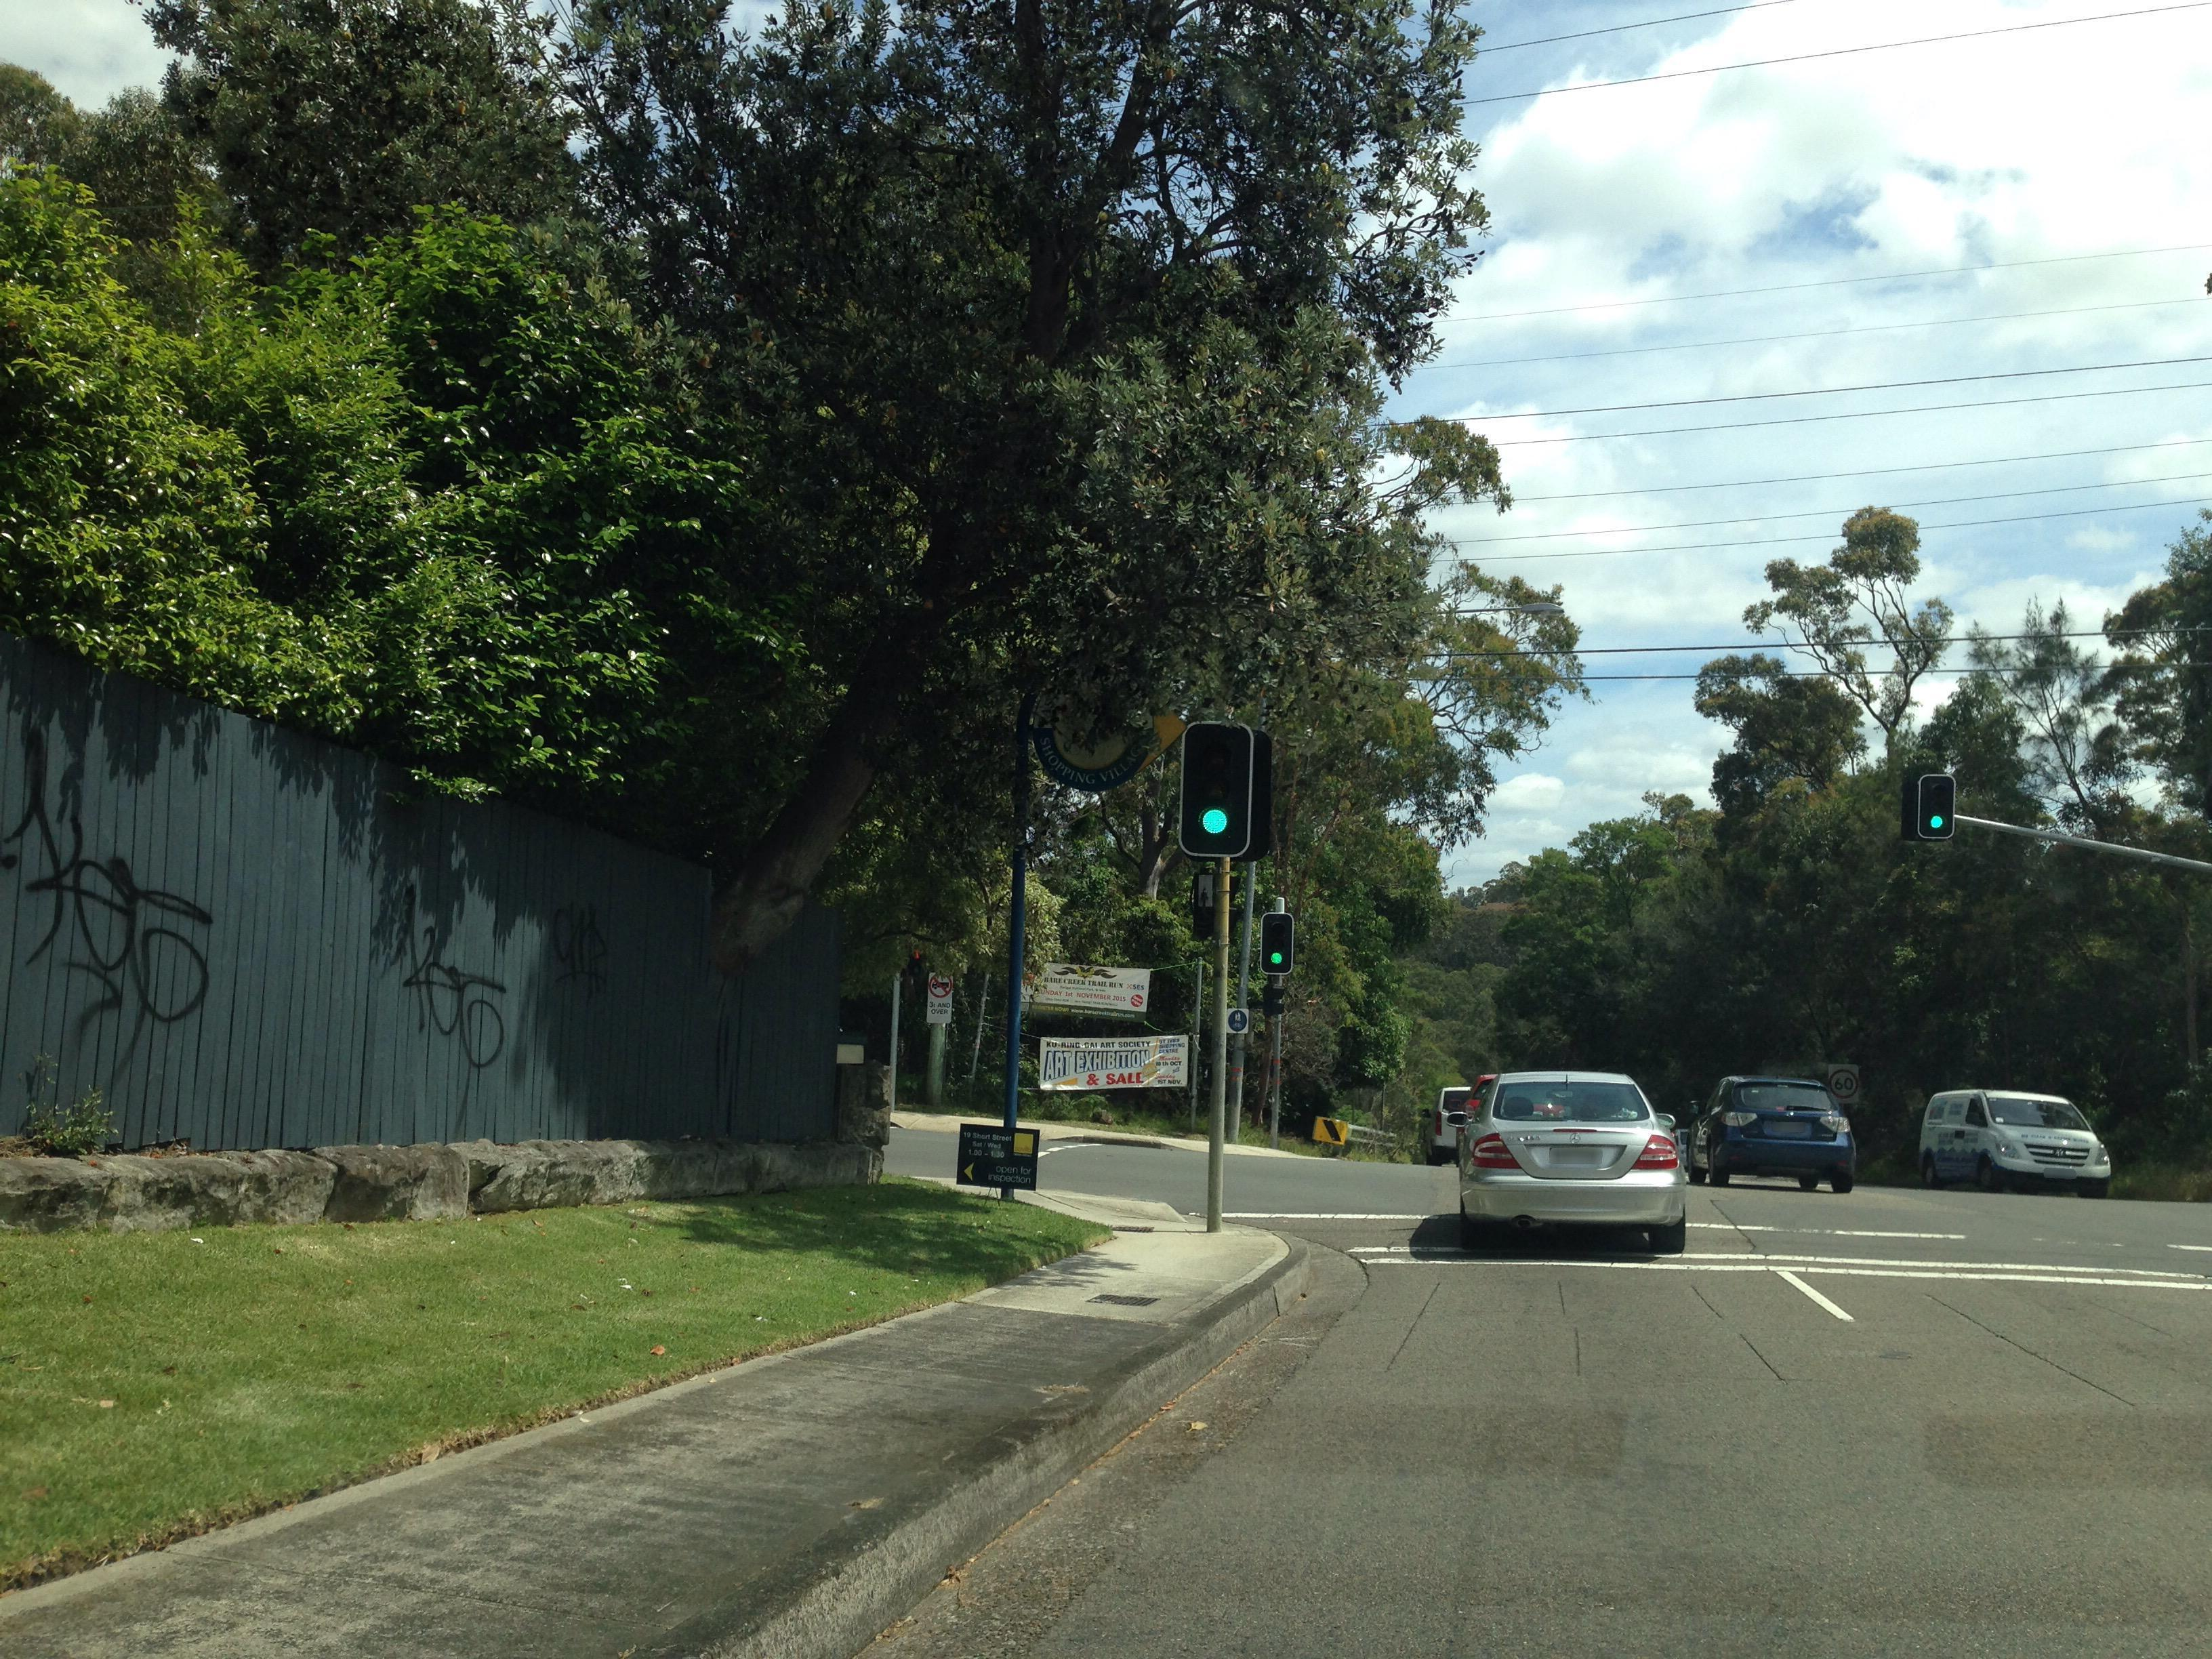vinyl banner: (1036, 1021, 1207, 1103), (1014, 943, 1167, 1032)
